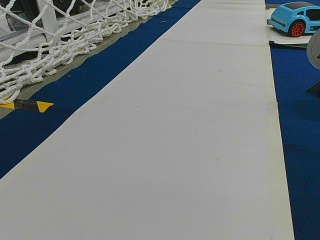car: (268, 2, 319, 36)
